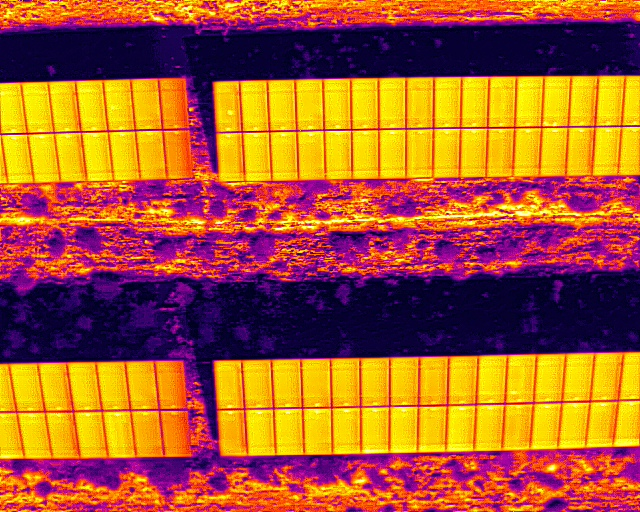photovoltaic_panels: (209, 74, 639, 183), (211, 350, 639, 458), (0, 76, 195, 184), (0, 359, 195, 460)
single_spot: (210, 79, 243, 134)
